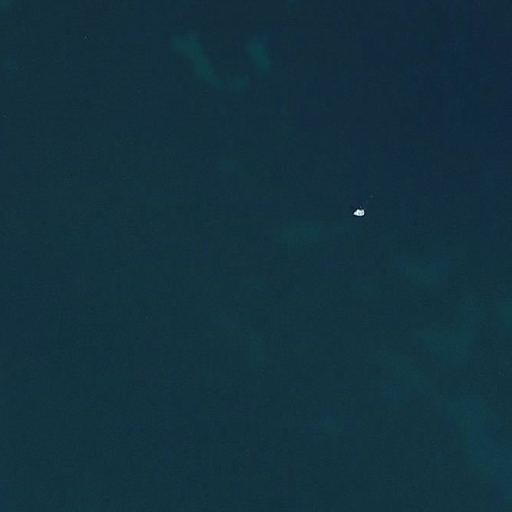ship: (352, 207, 367, 218)
